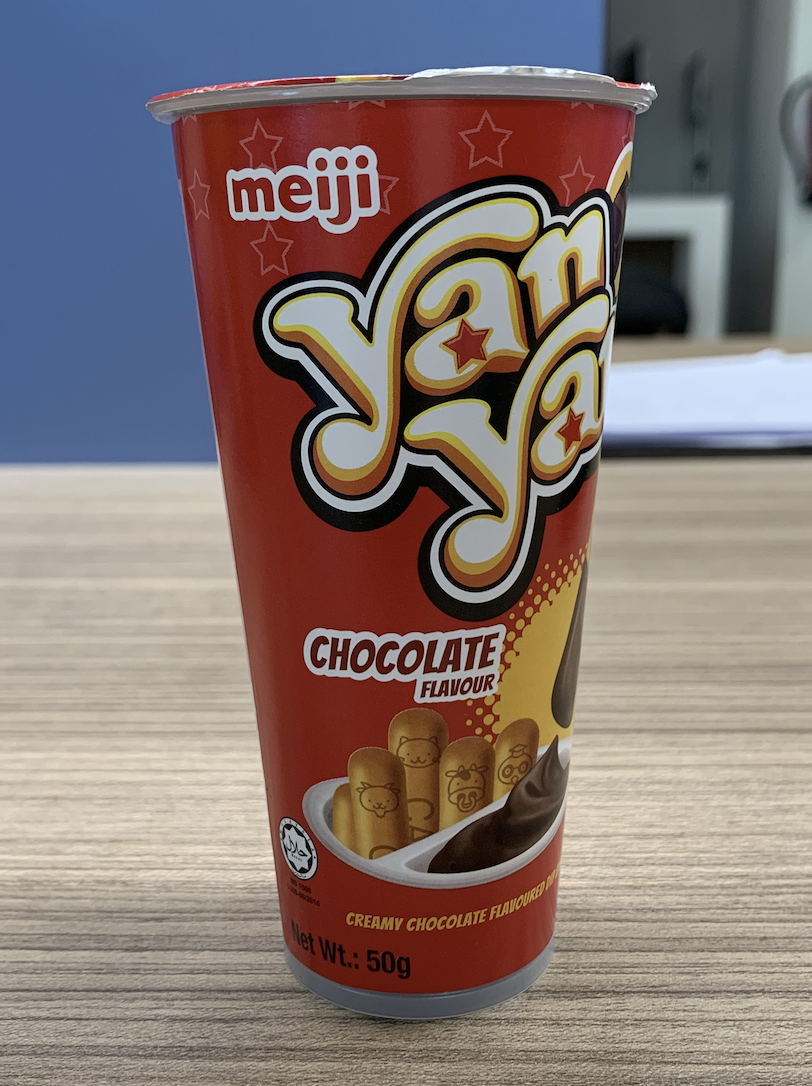cookies_1g-99g: (260, 123, 572, 983)
